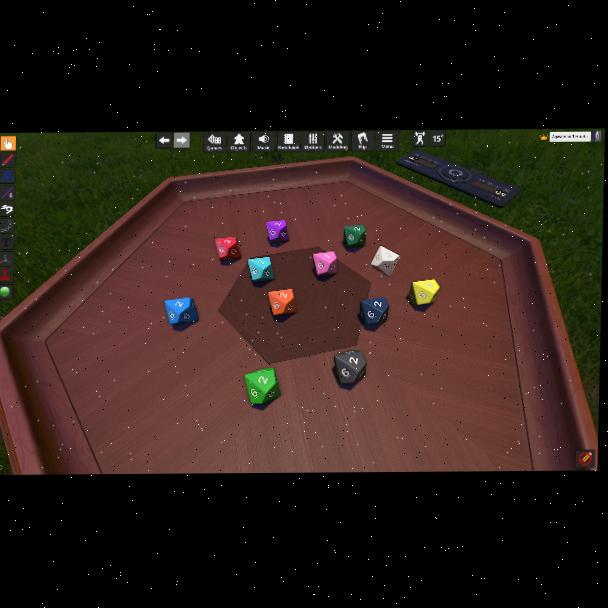d10: (244, 368, 281, 404), (332, 350, 365, 384), (165, 296, 199, 325), (267, 287, 297, 316), (370, 247, 398, 278), (408, 279, 437, 306), (359, 299, 387, 326), (214, 236, 241, 262), (247, 256, 273, 282), (312, 251, 338, 276), (265, 219, 289, 243), (342, 225, 365, 248)
